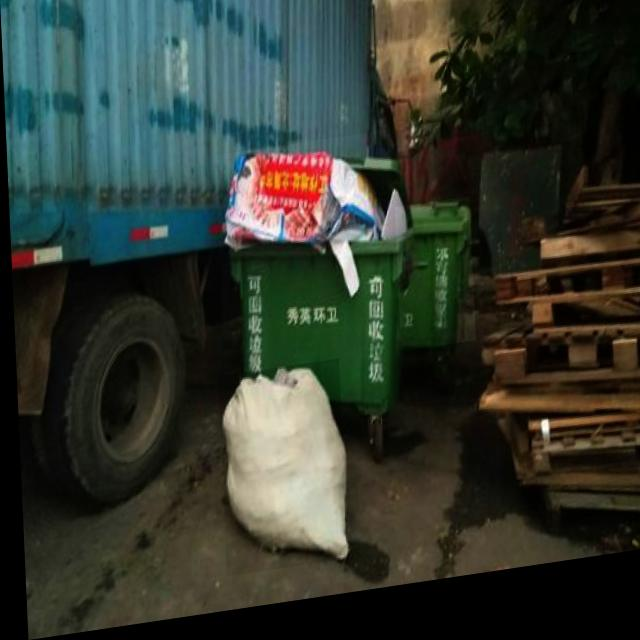garbage: (214, 369, 342, 583)
garbage_bin: (392, 211, 472, 363)
overflow: (214, 139, 414, 442)
